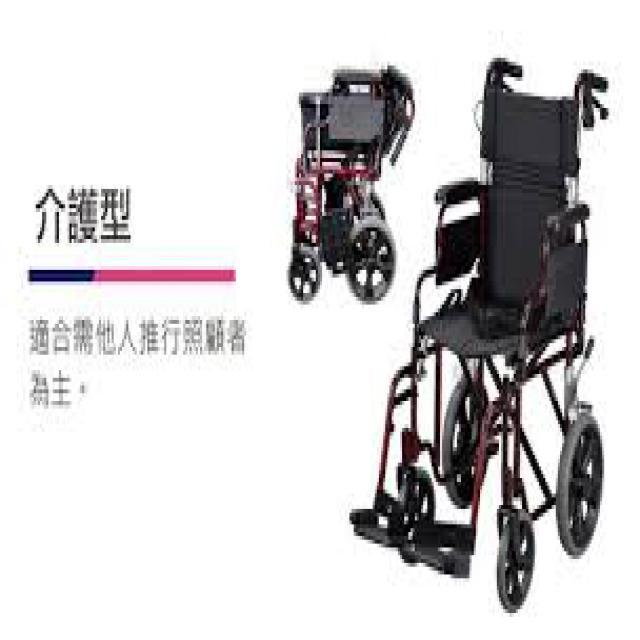wheelchair: (343, 54, 621, 602)
